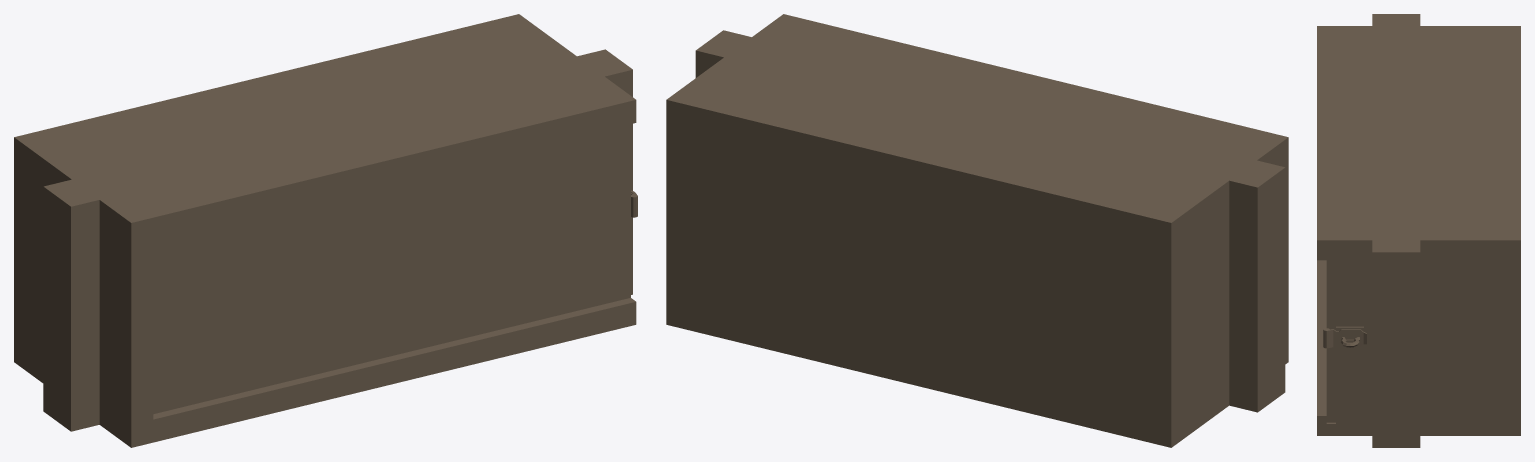
The model's file is watersandbox.obj.
The picture shows the model from 3 angles, left to right: view 1: azimuth 30°, elevation 25°; view 2: azimuth 150°, elevation 25°; view 3: azimuth 270°, elevation 25°; orthographic projection. The views are drawn at different scales.
Parts seen in each view (by area): view 1: product-ee71d14c-15ff-49de-86f2-3c43770b6f39-body, product-4ae3123b-0de4-41de-9786-996a51a243fa-body; view 2: product-ee71d14c-15ff-49de-86f2-3c43770b6f39-body; view 3: product-ee71d14c-15ff-49de-86f2-3c43770b6f39-body, product-4ae3123b-0de4-41de-9786-996a51a243fa-body, product-a5703c96-f9cb-4f14-aef2-bc0a42164f9d-body.
Part boxes in pixels (bbox=[...]): product-ee71d14c-15ff-49de-86f2-3c43770b6f39-body: bbox=[14, 14, 636, 447]; product-4ae3123b-0de4-41de-9786-996a51a243fa-body: bbox=[153, 124, 637, 414]; product-ee71d14c-15ff-49de-86f2-3c43770b6f39-body: bbox=[666, 14, 1288, 447]; product-ee71d14c-15ff-49de-86f2-3c43770b6f39-body: bbox=[1317, 14, 1520, 447]; product-4ae3123b-0de4-41de-9786-996a51a243fa-body: bbox=[1323, 251, 1335, 422]; product-a5703c96-f9cb-4f14-aef2-bc0a42164f9d-body: bbox=[1323, 328, 1366, 348].
Size of the model in its own units: 0.2553 by 0.0976 by 0.0922.
